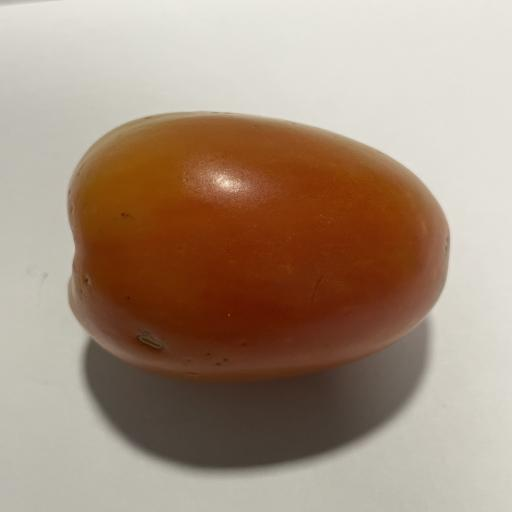ripe: (68, 112, 449, 381)
